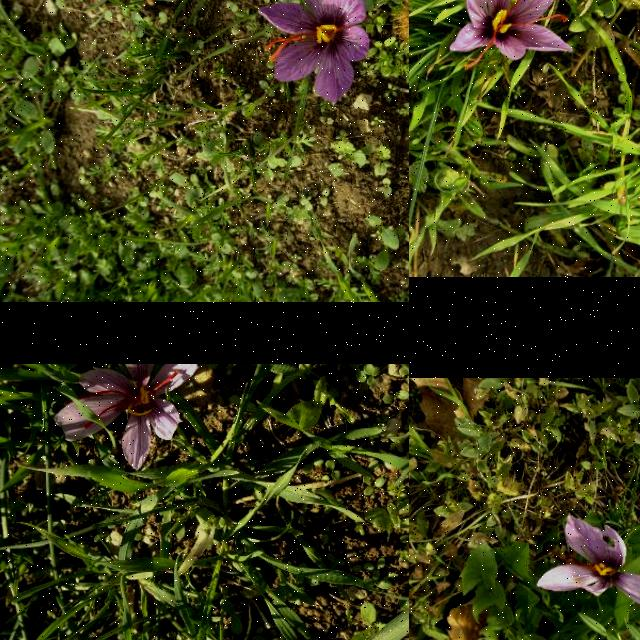flower: (54, 364, 197, 470), (257, 0, 371, 105), (536, 513, 640, 614), (449, 0, 573, 70)
